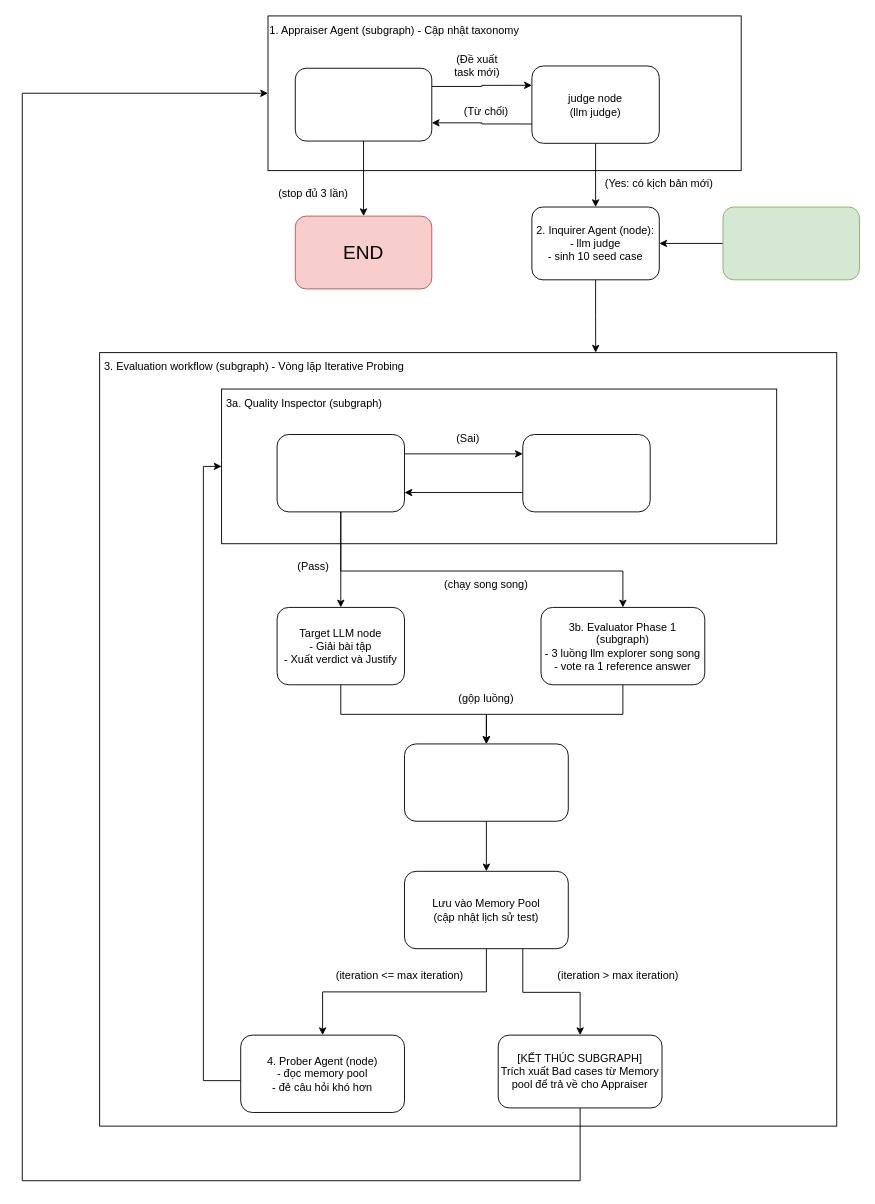
The diagram is 875 pixels wide and 1204 high, and some of its shapes have lost their labels. Each missing label, with the centre of its shape:
3c. Evaluator Phase 2 node - llm scorer - chấm điểm (thang 1-10): (x=486, y=782)
analyze node (llm explorer): (x=363, y=104)
llm inspection node (sửa lỗi, đẻ case mới): (x=586, y=473)
START: (x=790, y=243)
web check node (Tavily Tool): (x=340, y=473)
